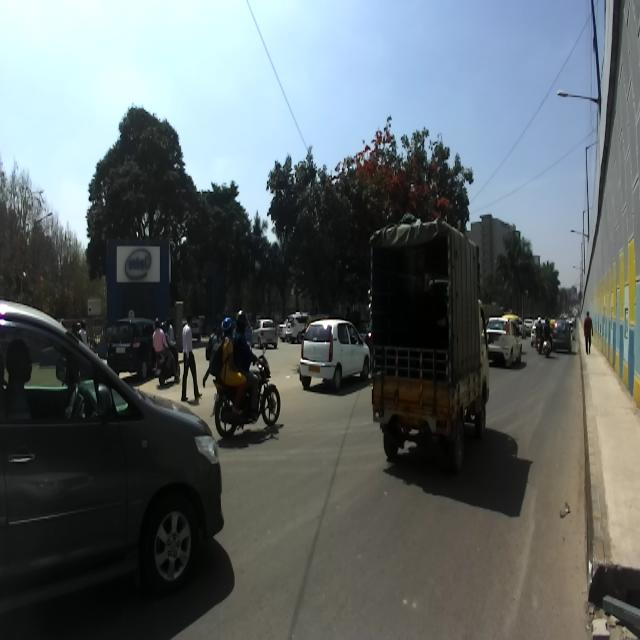car ahead at: (0, 283, 225, 626), (362, 212, 496, 477)
motorcycle ahead at: (206, 350, 288, 446)
